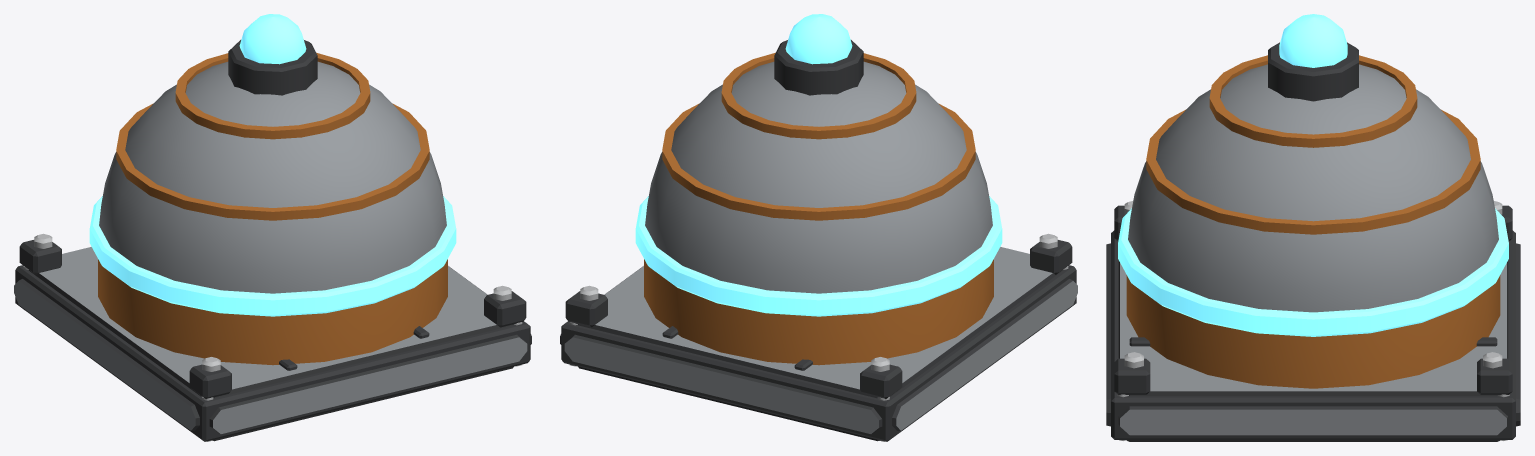
File: R4X_PersonalShield.fbx
3 views of the same model, side by side, from view 1: azimuth 30°, elevation 25°; view 2: azimuth 150°, elevation 25°; view 3: azimuth 270°, elevation 25° (orthographic). The views are drawn at different scales.
Visible parts, largest first — view 1: R4X_PersonalShield_Body; view 2: R4X_PersonalShield_Body; view 3: R4X_PersonalShield_Body.
Boxes of the visible parts, bbox=[...] form: R4X_PersonalShield_Body: bbox=[14, 14, 531, 441]; R4X_PersonalShield_Body: bbox=[560, 14, 1077, 441]; R4X_PersonalShield_Body: bbox=[1106, 14, 1520, 441].
Size of the model in its own units: 0.52 by 0.475 by 0.52.
